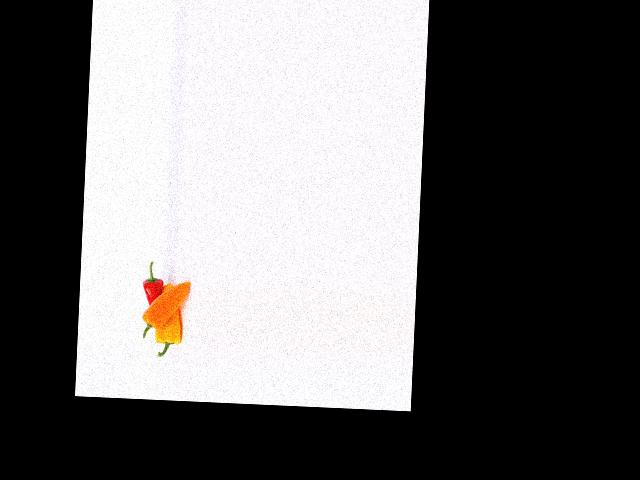bell_pepper: (151, 301, 188, 360)
